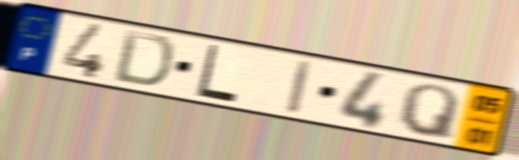4: (337, 67, 388, 132), (59, 21, 105, 81)
D: (110, 27, 177, 89)
I: (283, 57, 315, 118)
L: (194, 42, 240, 105)
Q: (396, 82, 462, 144)
